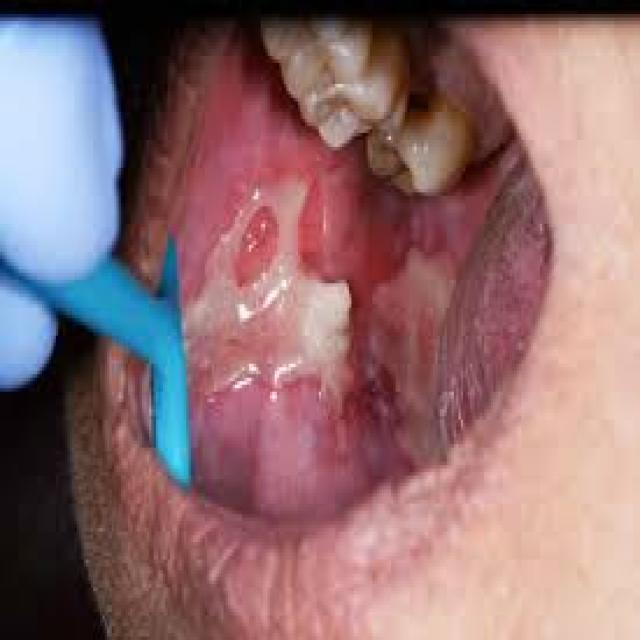processing_area: (153, 47, 493, 514)
ulcer-detection: (183, 157, 460, 469)
